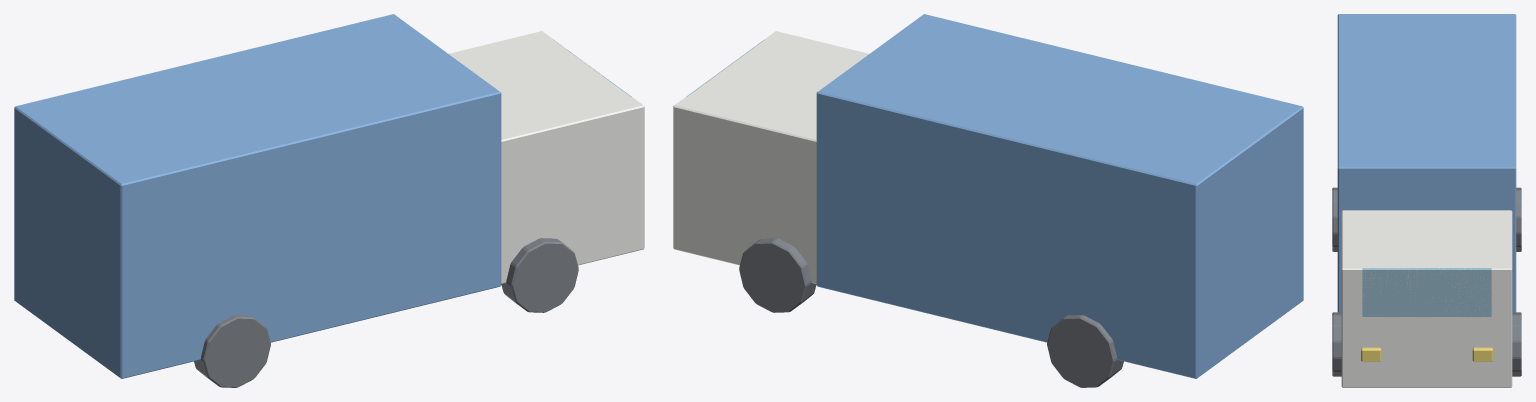
The model's file is 车_厢式货车_01.fbx.
3 views of the same model, side by side, from view 1: azimuth 30°, elevation 25°; view 2: azimuth 150°, elevation 25°; view 3: azimuth 270°, elevation 25° (orthographic). The views are drawn at different scales.
Parts seen in each view (by area): view 1: 货箱, 驾驶室, 车轮.009; view 2: 货箱, 驾驶室, 车轮.009; view 3: 货箱, 驾驶室, 车窗.006, 车轮.009, 车灯.007.
Part boxes in pixels (bbox=[...]): 货箱: bbox=[14, 14, 501, 378]; 驾驶室: bbox=[448, 31, 644, 283]; 车轮.009: bbox=[194, 238, 578, 387]; 货箱: bbox=[816, 14, 1303, 378]; 驾驶室: bbox=[673, 31, 869, 283]; 车轮.009: bbox=[739, 238, 1123, 387]; 货箱: bbox=[1337, 14, 1516, 312]; 驾驶室: bbox=[1341, 210, 1512, 387]; 车窗.006: bbox=[1362, 268, 1491, 316]; 车轮.009: bbox=[1332, 187, 1521, 376]; 车灯.007: bbox=[1361, 347, 1492, 361].
Size of the model in its own units: 656 by 270 by 244.
